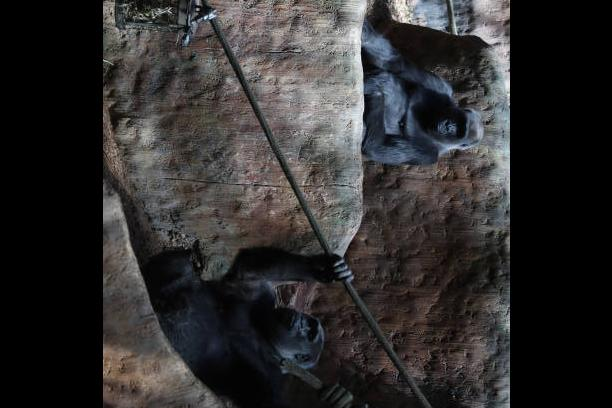gorille_Autres: (179, 254, 348, 408), (361, 51, 491, 187)
